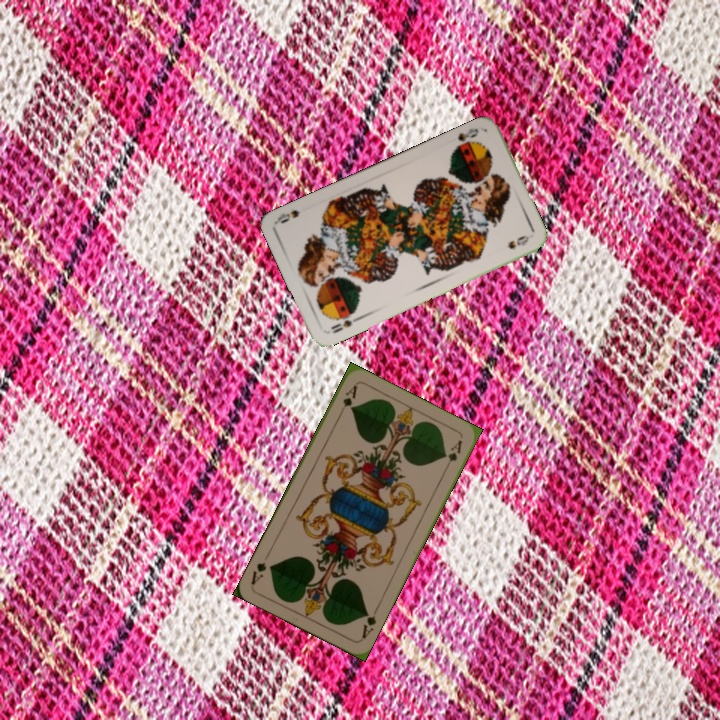GA: (335, 381, 360, 419), (358, 604, 380, 642)
SO: (327, 309, 362, 336), (449, 124, 481, 153)
